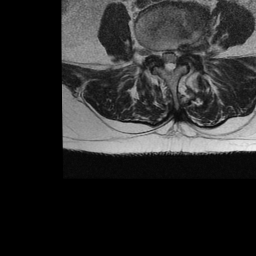CCS_normal: (166, 45, 173, 76)
LFS_normal: (179, 39, 188, 61)
LLS_normal: (173, 45, 178, 71)
RFS_stenosis: (152, 44, 161, 64)
RLS_normal: (161, 45, 167, 70)
